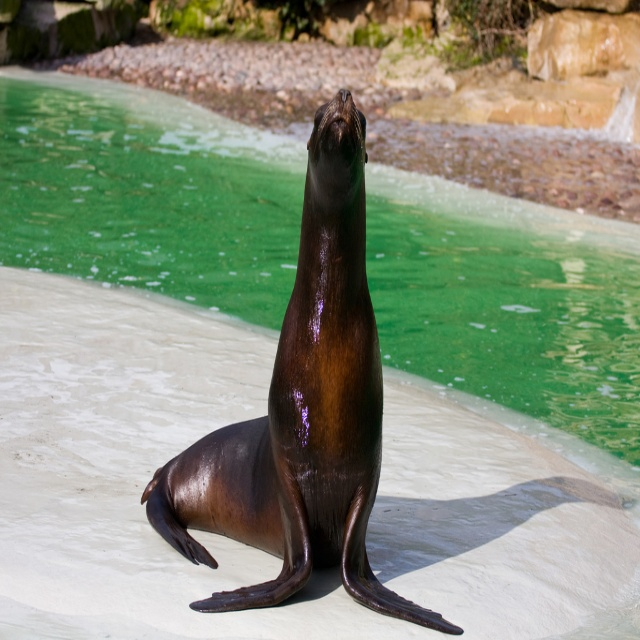Sea lion: (140, 89, 463, 635)
